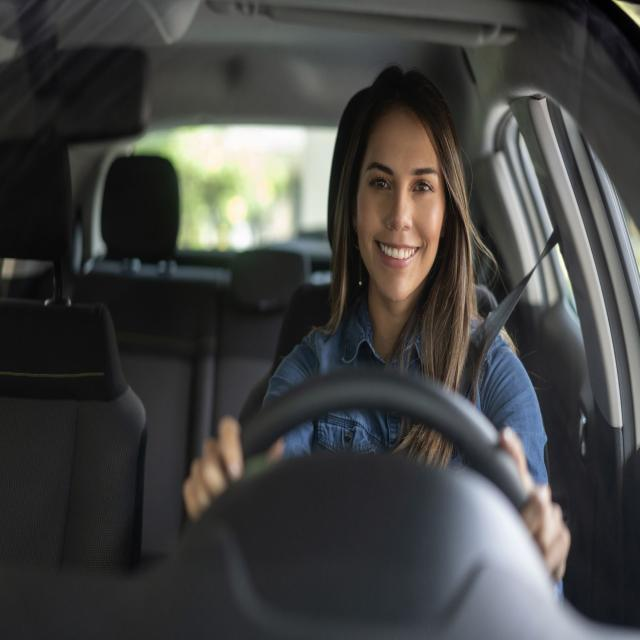Focused: (360, 115, 439, 299)
